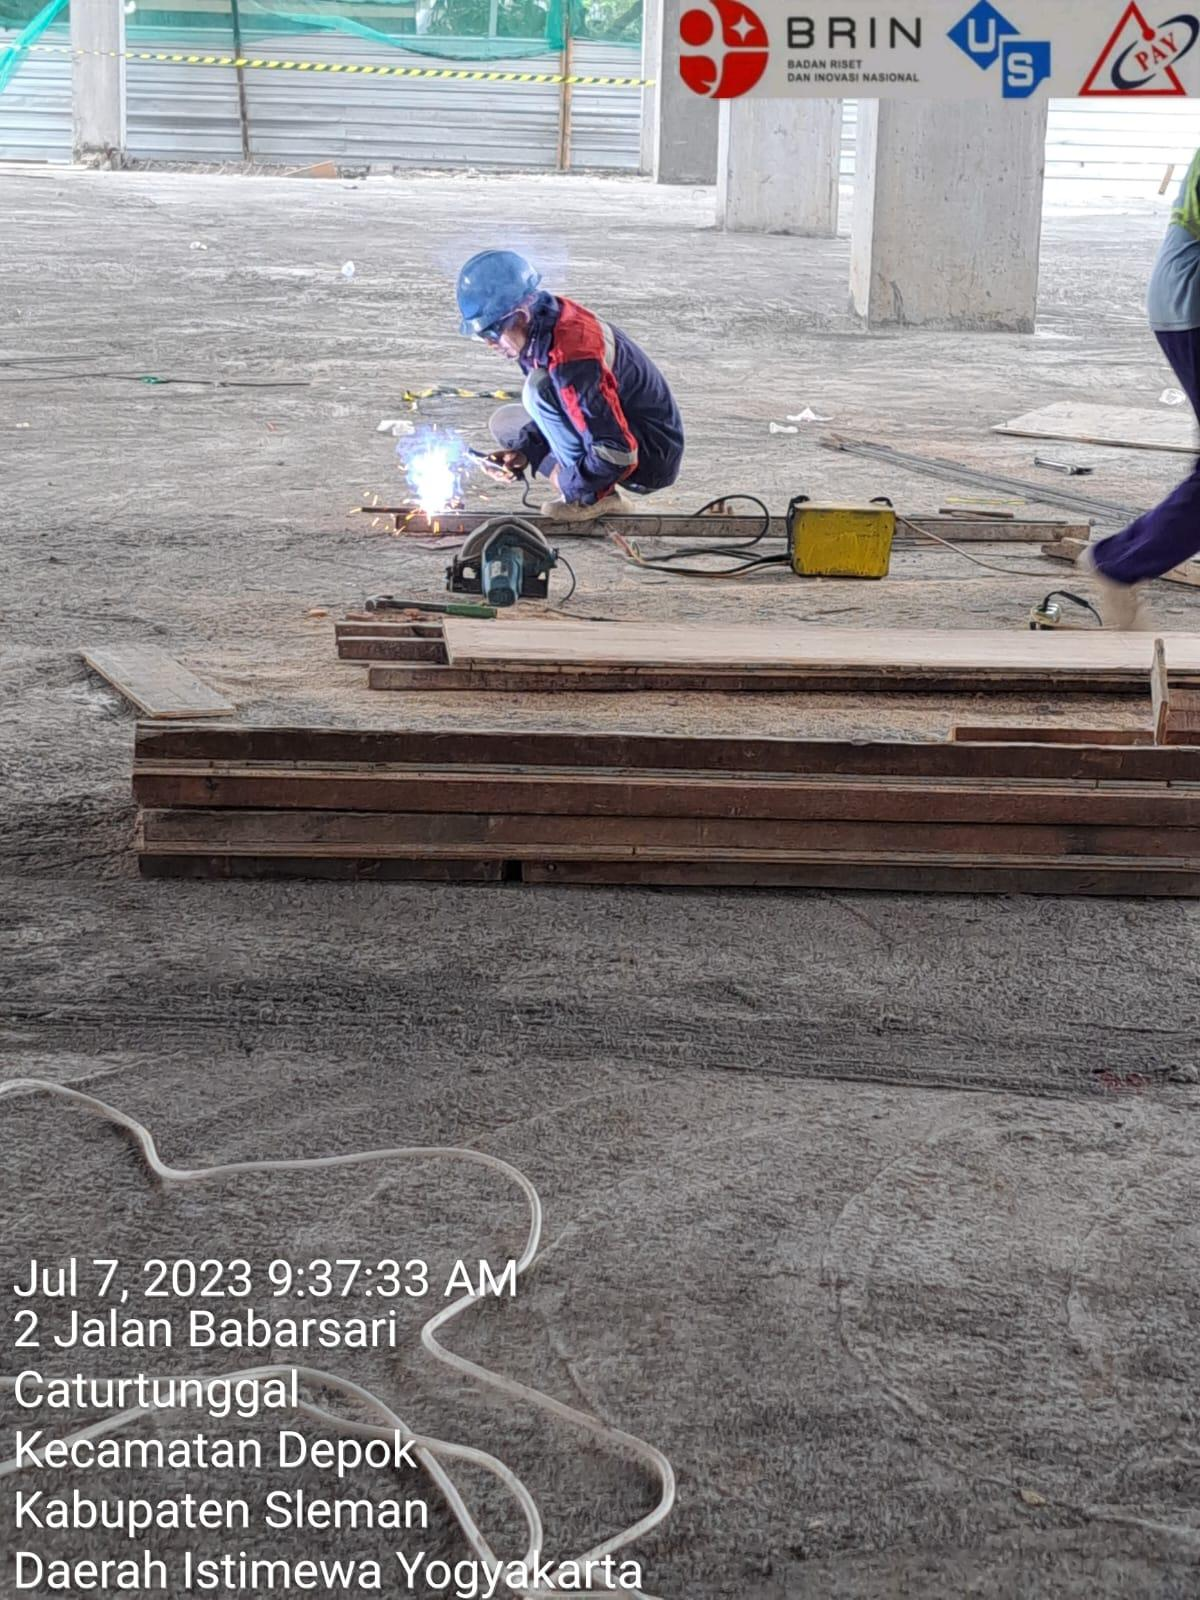hat: (406, 196, 536, 351)
no vest: (514, 316, 724, 476), (1129, 119, 1200, 384)
